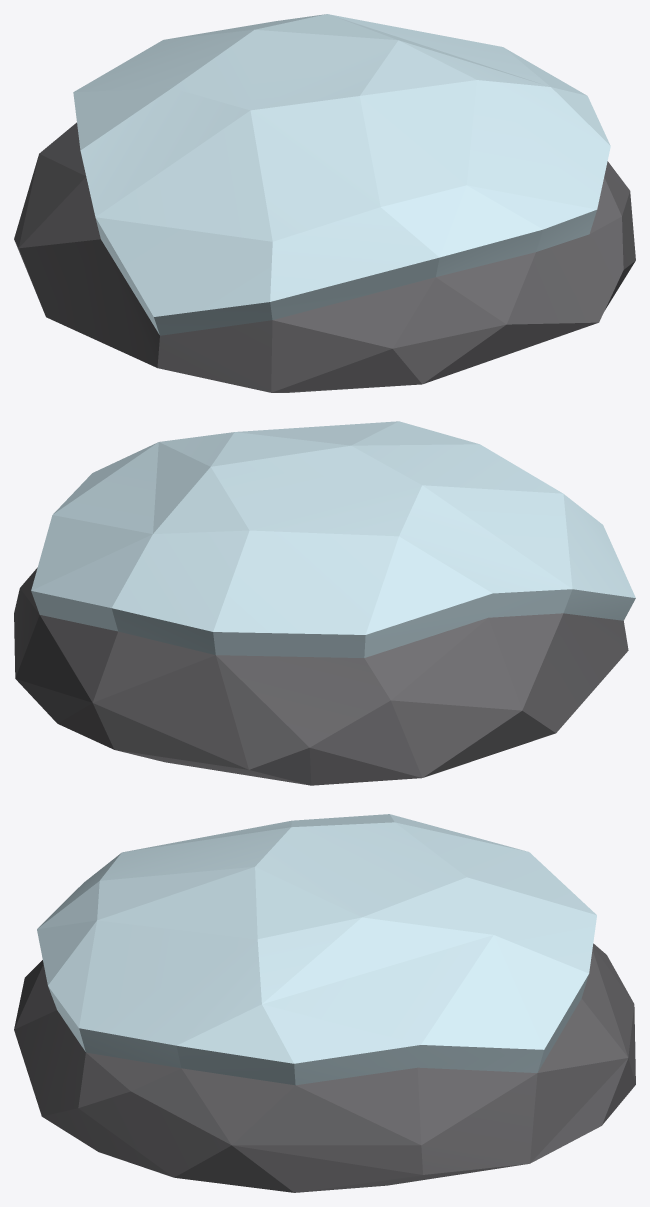
Rendered from Roca06.glb.
3 views of the same model, one above another, from view 1: azimuth 30°, elevation 25°; view 2: azimuth 150°, elevation 25°; view 3: azimuth 270°, elevation 25° (orthographic). The views are drawn at different scales.
Parts seen in each view (by area): view 1: SM_Env_Rock_05_Snow; view 2: SM_Env_Rock_05_Snow; view 3: SM_Env_Rock_05_Snow.
Boxes of the visible parts, box(x1,y1,x2,y2) form: SM_Env_Rock_05_Snow: box(14, 14, 635, 392); SM_Env_Rock_05_Snow: box(14, 421, 635, 785); SM_Env_Rock_05_Snow: box(14, 814, 635, 1192).
Bounding box in the file's own units: 1.42 × 0.5861 × 1.44.
Materials: 1 (1 with a texture image).
